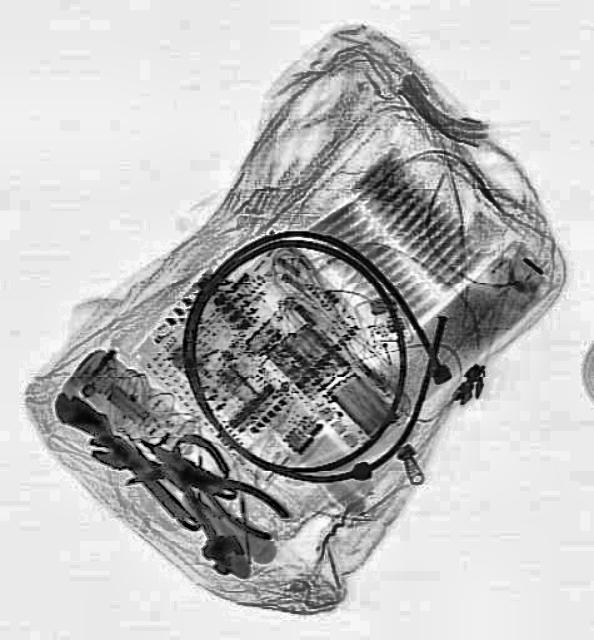Pliers: (147, 434, 291, 544)
Wrench: (43, 378, 209, 544), (86, 425, 245, 509)
